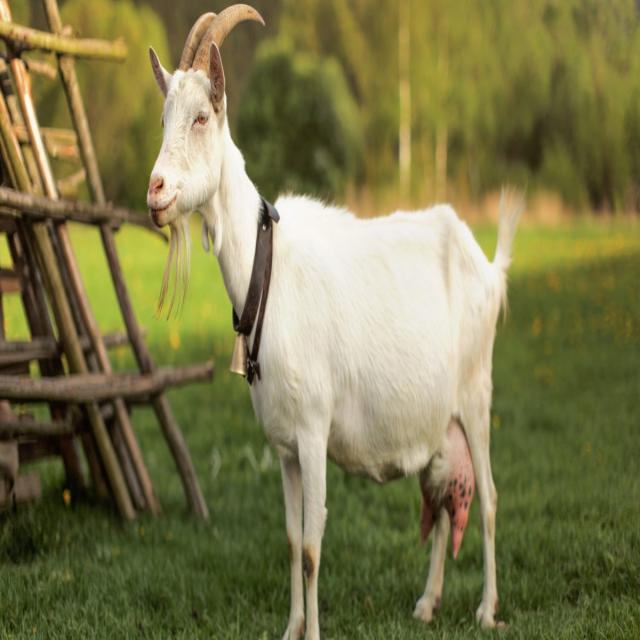Goat: (140, 3, 510, 640)
